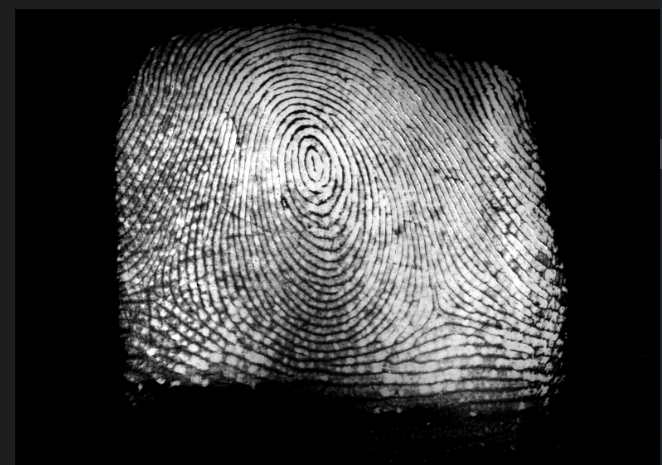nucelo: (295, 137, 329, 185)
verticilo: (422, 303, 453, 326), (137, 278, 161, 305)
